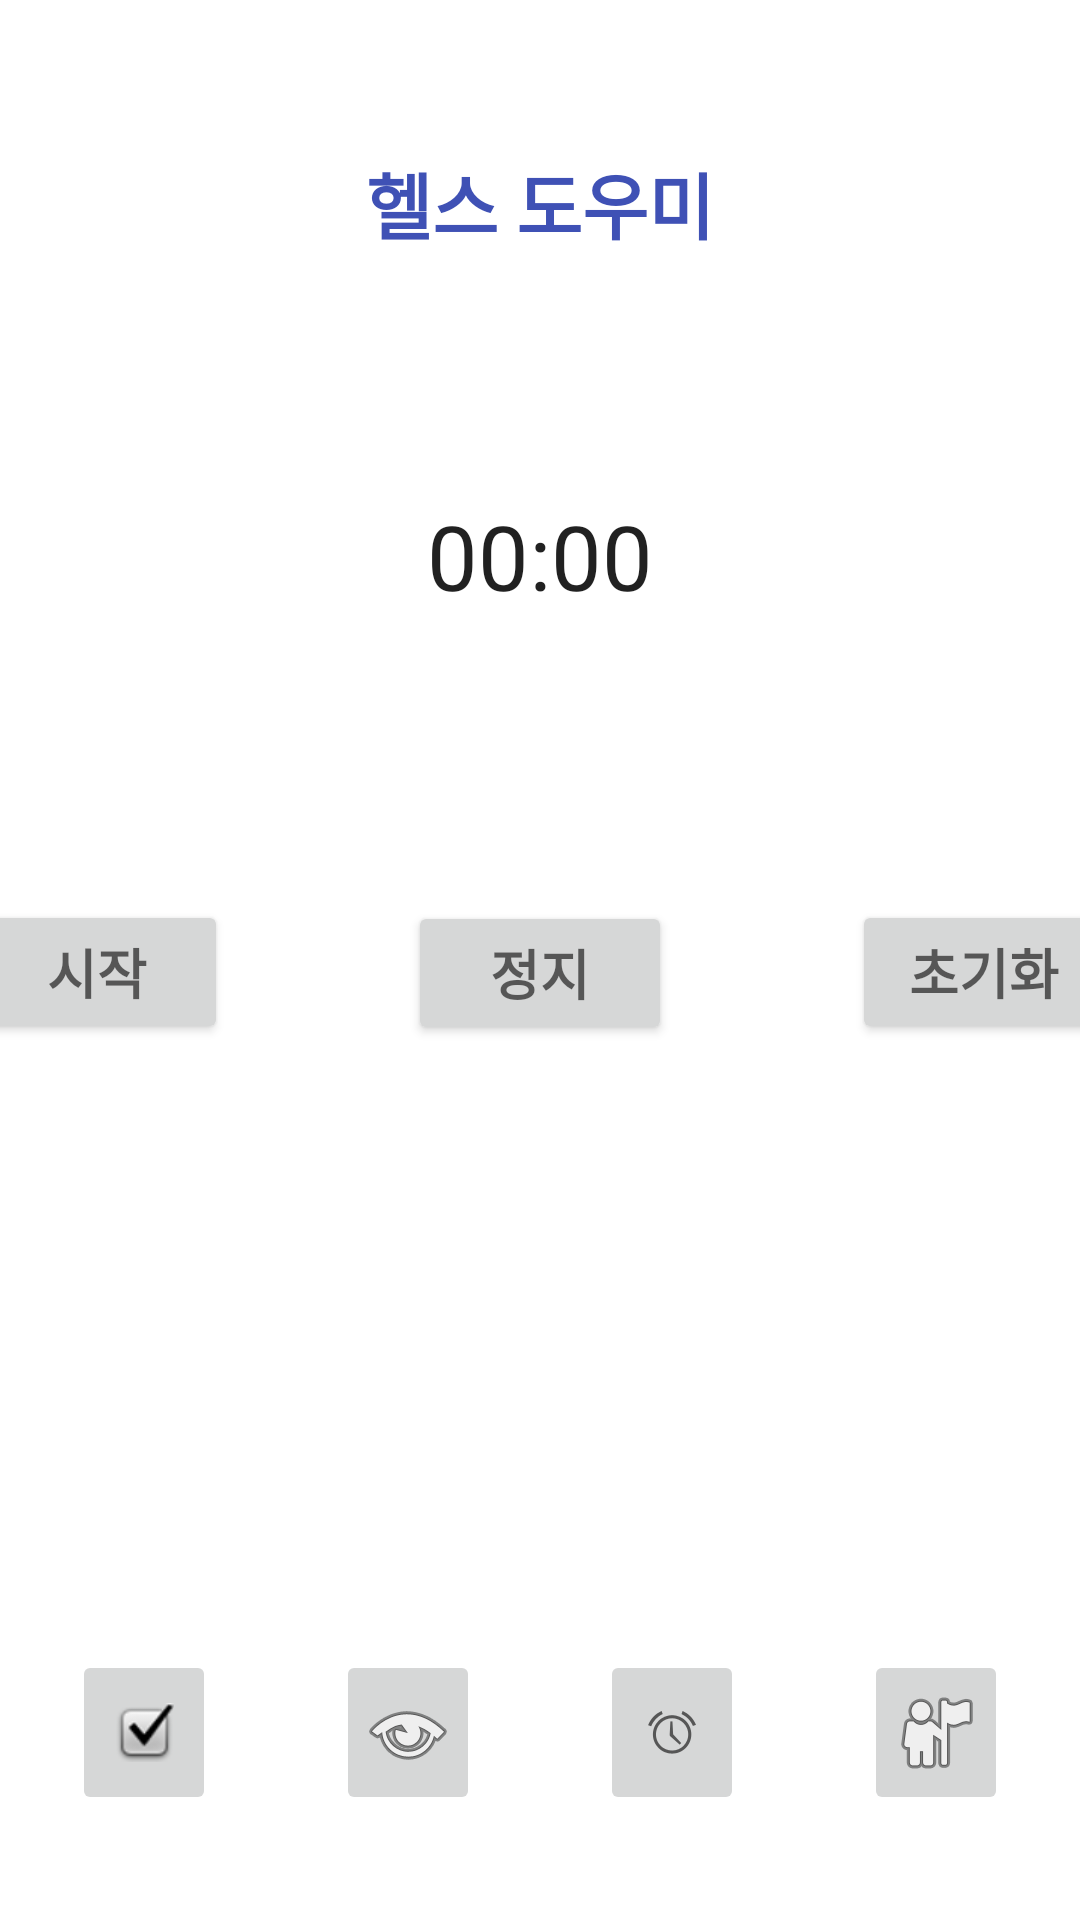

Icons on this 1080 × 1920 Android screen, each with its box as (x1, y1, x2, y2):
달성률: (876, 1668, 996, 1797)
